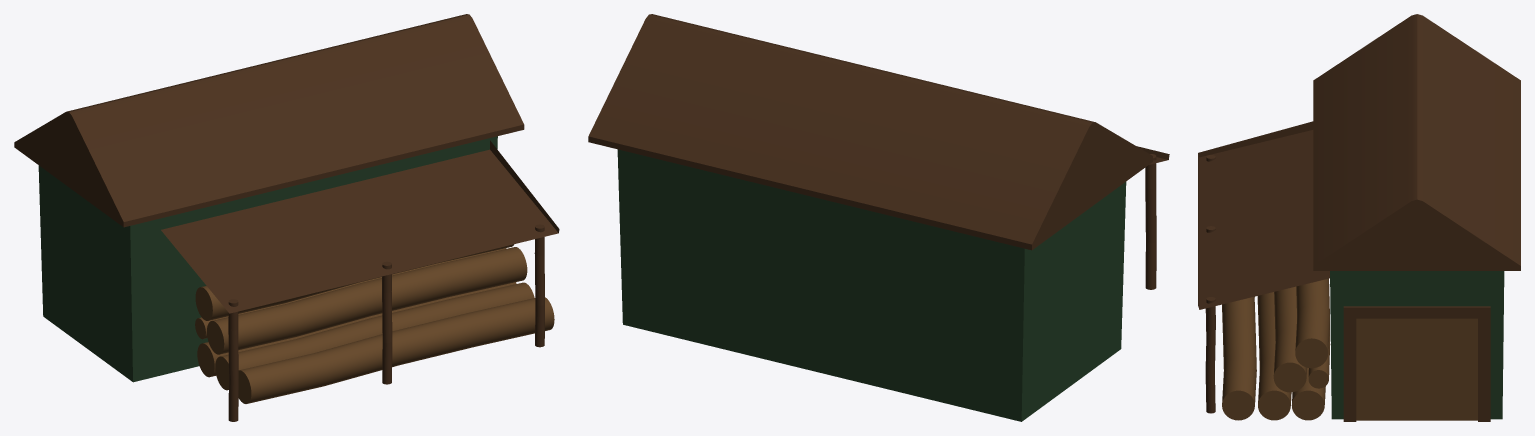
File: Tartak.fbx
3 views of the same model, side by side, from view 1: azimuth 30°, elevation 25°; view 2: azimuth 150°, elevation 25°; view 3: azimuth 270°, elevation 25° (orthographic). The views are drawn at different scales.
Visible parts, largest first — view 1: Cube; view 2: Cube; view 3: Cube.
Part boxes in pixels (x1,y1,x2,y2): Cube: (14, 14, 559, 421); Cube: (588, 14, 1169, 421); Cube: (1198, 14, 1520, 421).
Bounding box in the file's own units: 503 × 291 × 370.
